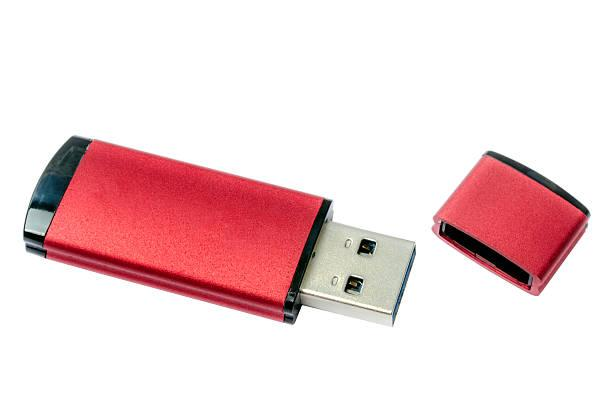USB Flash Drive: (23, 136, 416, 327)
